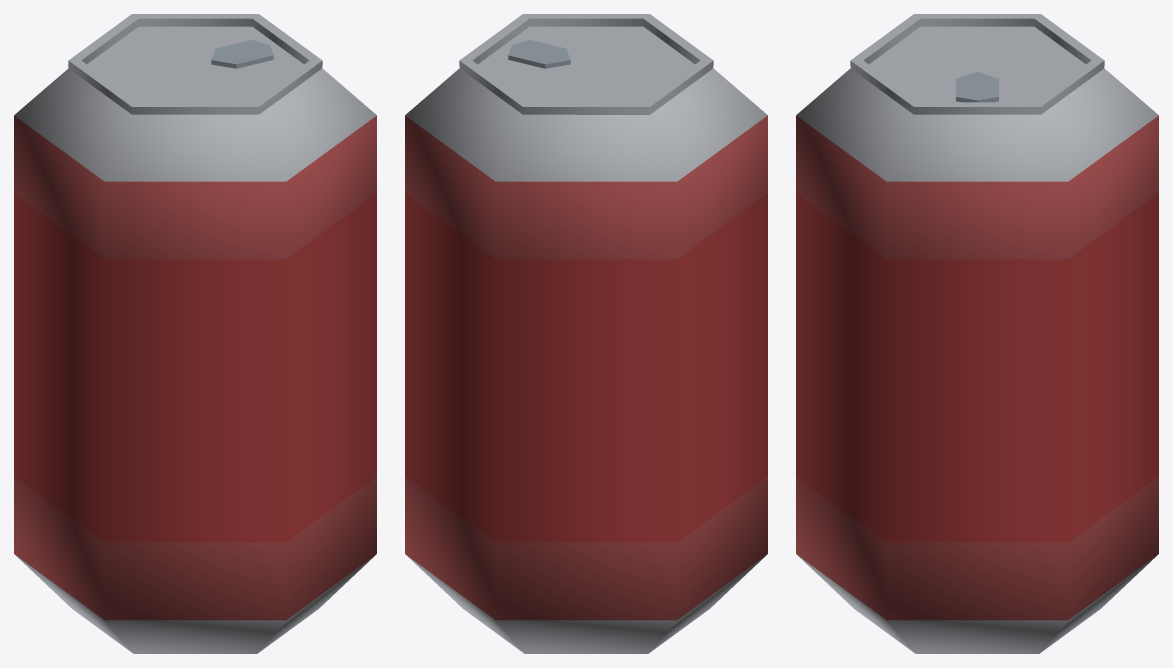
The model's file is red_can.fbx.
The picture shows the model from 3 angles, left to right: view 1: azimuth 30°, elevation 25°; view 2: azimuth 150°, elevation 25°; view 3: azimuth 270°, elevation 25°; orthographic projection.
Visible parts, largest first — view 1: Red_can; view 2: Red_can; view 3: Red_can.
Boxes of the visible parts, left/top/right/bottom form: Red_can: left=14, top=14, right=376, bottom=653; Red_can: left=405, top=14, right=767, bottom=653; Red_can: left=796, top=14, right=1158, bottom=653.
Size of the model in its own units: 0.3796 by 0.4384 by 0.7306.
